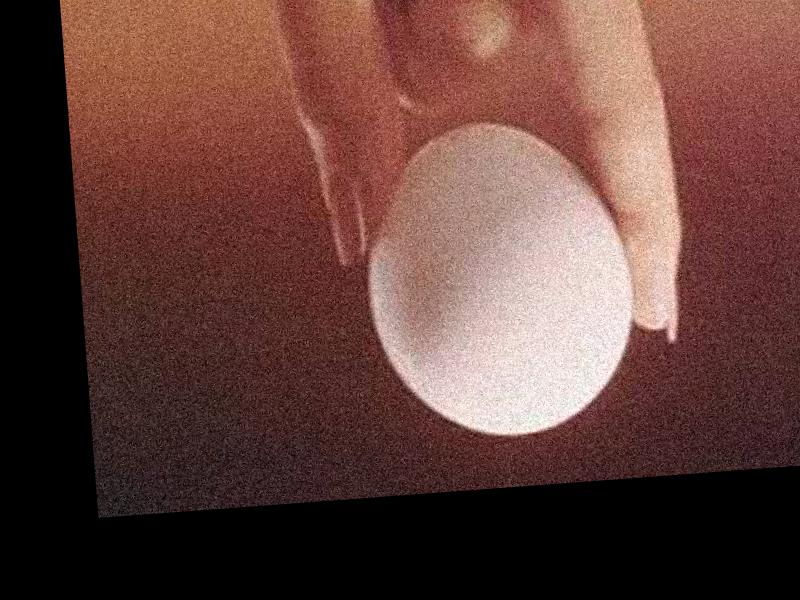Eggs: (352, 108, 642, 443)
